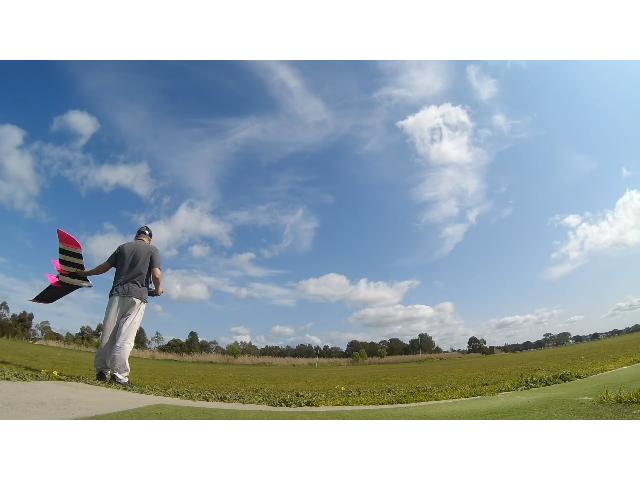Anti-Drone: (26, 219, 104, 311)
